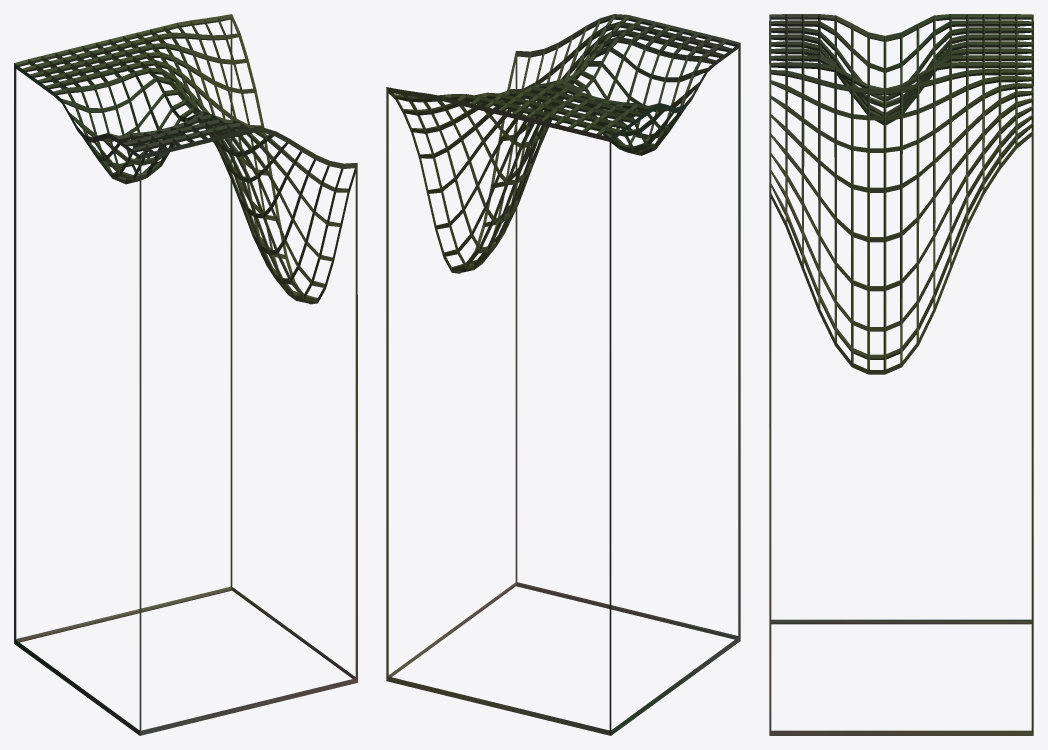
File: erimis zemin2.fbx
The picture shows the model from 3 angles, left to right: view 1: azimuth 30°, elevation 25°; view 2: azimuth 150°, elevation 25°; view 3: azimuth 270°, elevation 25°; orthographic projection. The views are drawn at different scales.
Visible parts, largest first — view 1: Cube.118; view 2: Cube.118; view 3: Cube.118.
Boxes of the visible parts, box(x1,y1,x2,y2) form: Cube.118: box(14, 14, 357, 735); Cube.118: box(386, 14, 740, 735); Cube.118: box(769, 14, 1033, 735).
Bounding box in the file's own units: 561 × 1429 × 561.
Materials: 1 (1 with a texture image).
